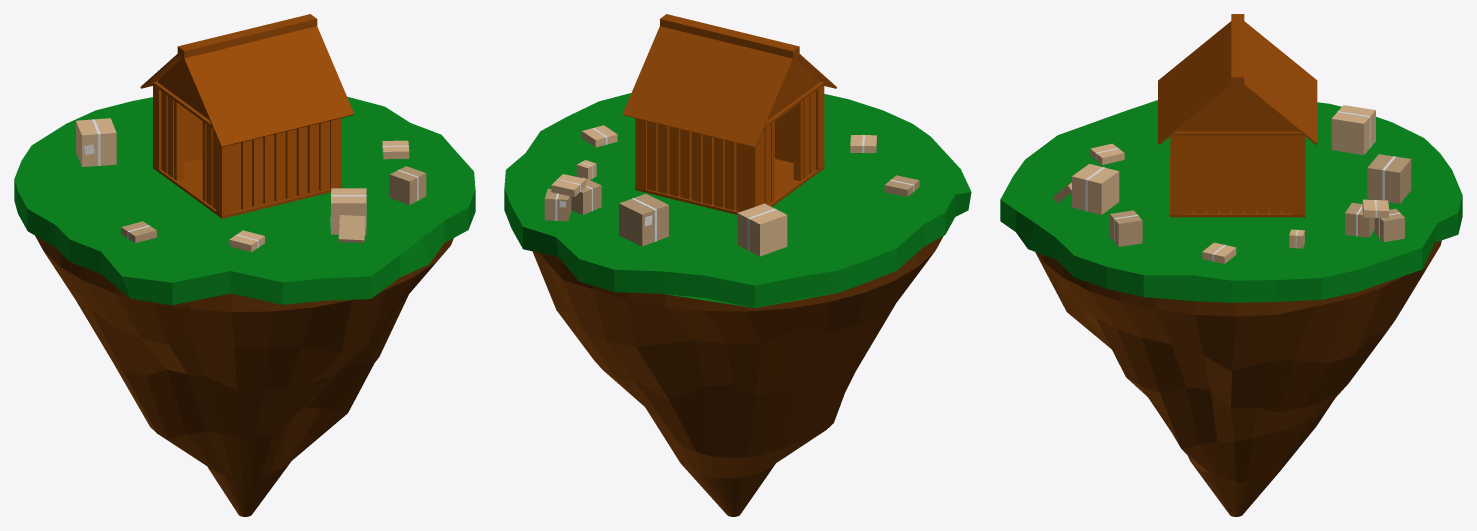
Rendered from cabin_island.glb.
3 views of the same model, side by side, from view 1: azimuth 30°, elevation 25°; view 2: azimuth 150°, elevation 25°; view 3: azimuth 270°, elevation 25° (orthographic). The views are drawn at different scales.
Visible parts, largest first — view 1: Cylinder, soil, roof, cabin, box_1, floor, box_6, box_11, box_13, box_7, box_9; view 2: Cylinder, soil, roof, cabin, box_1, box_10, floor, box_4, box_2, box_3, box_8, box_7; view 3: Cylinder, soil, roof, cabin, box_11, box_1, box_10, box_6, floor, box_2, box_4, box_9 (+1 smaller).
Boxes of the visible parts, left/top/right/bottom form: Cylinder: left=14, top=97, right=475, bottom=305; soil: left=35, top=236, right=453, bottom=516; roof: left=140, top=14, right=354, bottom=147; cabin: left=153, top=84, right=341, bottom=215; box_1: left=76, top=118, right=116, bottom=166; floor: left=153, top=158, right=341, bottom=218; box_6: left=389, top=166, right=426, bottom=204; box_11: left=331, top=188, right=366, bottom=235; box_13: left=338, top=215, right=365, bottom=242; box_7: left=121, top=221, right=156, bottom=243; box_9: left=229, top=230, right=264, bottom=252; Cylinder: left=504, top=93, right=971, bottom=307; soil: left=532, top=236, right=943, bottom=516; roof: left=622, top=14, right=836, bottom=147; cabin: left=635, top=85, right=824, bottom=211; box_1: left=737, top=203, right=787, bottom=256; box_10: left=619, top=193, right=668, bottom=246; floor: left=635, top=159, right=824, bottom=214; box_4: left=571, top=177, right=601, bottom=214; box_2: left=544, top=189, right=571, bottom=221; box_3: left=551, top=174, right=586, bottom=196; box_8: left=582, top=125, right=617, bottom=147; box_7: left=884, top=175, right=919, bottom=196; Cylinder: left=1000, top=100, right=1462, bottom=302; soil: left=1035, top=240, right=1441, bottom=516; roof: left=1158, top=14, right=1317, bottom=144; cabin: left=1170, top=135, right=1305, bottom=214; box_11: left=1072, top=164, right=1119, bottom=214; box_1: left=1331, top=105, right=1375, bottom=154; box_10: left=1367, top=154, right=1411, bottom=203; box_6: left=1110, top=210, right=1142, bottom=246; floor: left=1170, top=158, right=1305, bottom=217; box_2: left=1374, top=208, right=1404, bottom=242; box_4: left=1345, top=203, right=1374, bottom=237; box_9: left=1090, top=143, right=1124, bottom=164.
Size of the model in its own units: 14.09 by 16.66 by 14.85.
